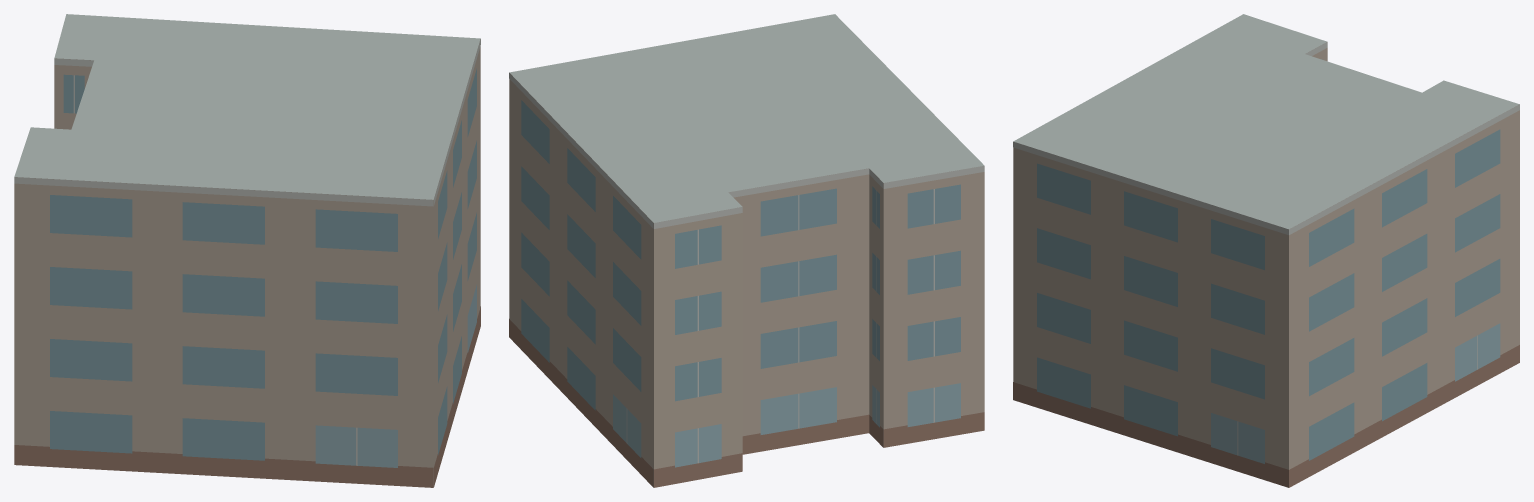
File: survey-upis-33042644.glb
3 views of the same model, side by side, from view 1: azimuth 30°, elevation 25°; view 2: azimuth 150°, elevation 25°; view 3: azimuth 270°, elevation 25° (orthographic). The views are drawn at different scales.
Visible parts, largest first — view 1: survey-upis-33042644.tmp; view 2: survey-upis-33042644.tmp; view 3: survey-upis-33042644.tmp.
Part boxes in pixels (x1,y1,x2,y2): survey-upis-33042644.tmp: [14, 14, 480, 487]; survey-upis-33042644.tmp: [509, 14, 984, 487]; survey-upis-33042644.tmp: [1013, 14, 1519, 487].
Size of the model in its own units: 18.95 by 10.6 by 18.84.
